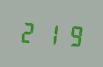nine: (61, 20, 81, 49)
one: (40, 19, 60, 47)
two: (18, 17, 38, 46)
